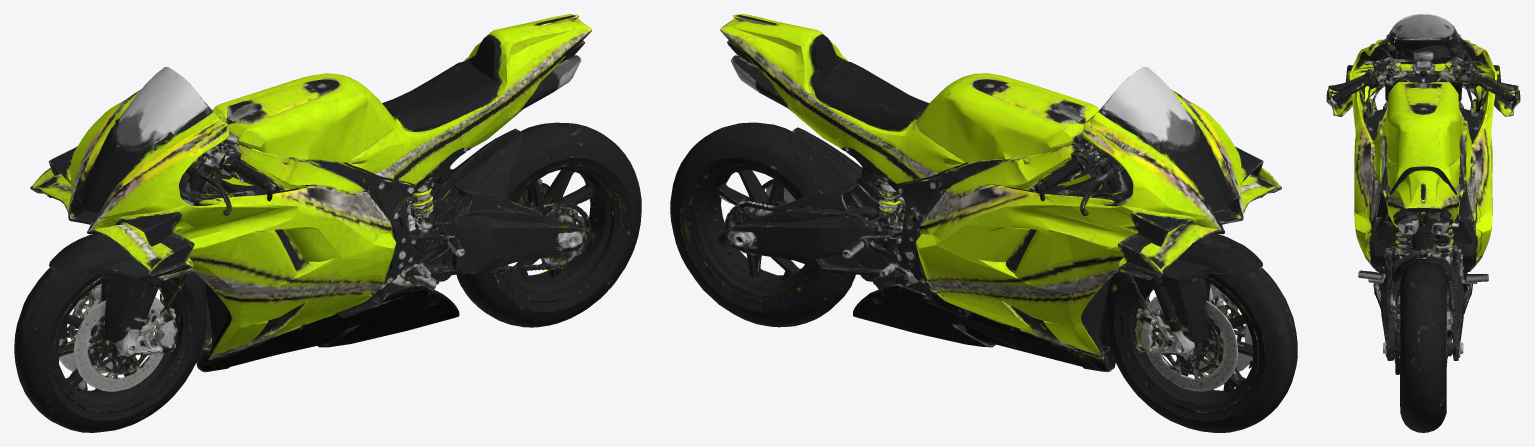
File: bike-ai.glb
3 renders of one model, left to right at view 1: azimuth 30°, elevation 25°; view 2: azimuth 150°, elevation 25°; view 3: azimuth 270°, elevation 25°, orthographic. The views are drawn at different scales.
Visible parts, largest first — view 1: Mesh_0; view 2: Mesh_0; view 3: Mesh_0.
Boxes of the visible parts, bbox=[...] form: Mesh_0: bbox=[14, 14, 641, 432]; Mesh_0: bbox=[670, 14, 1297, 432]; Mesh_0: bbox=[1326, 14, 1520, 432].
Bounding box in the file's own units: 1.9 × 0.9974 × 0.6524.
1 material, 1 textured.
